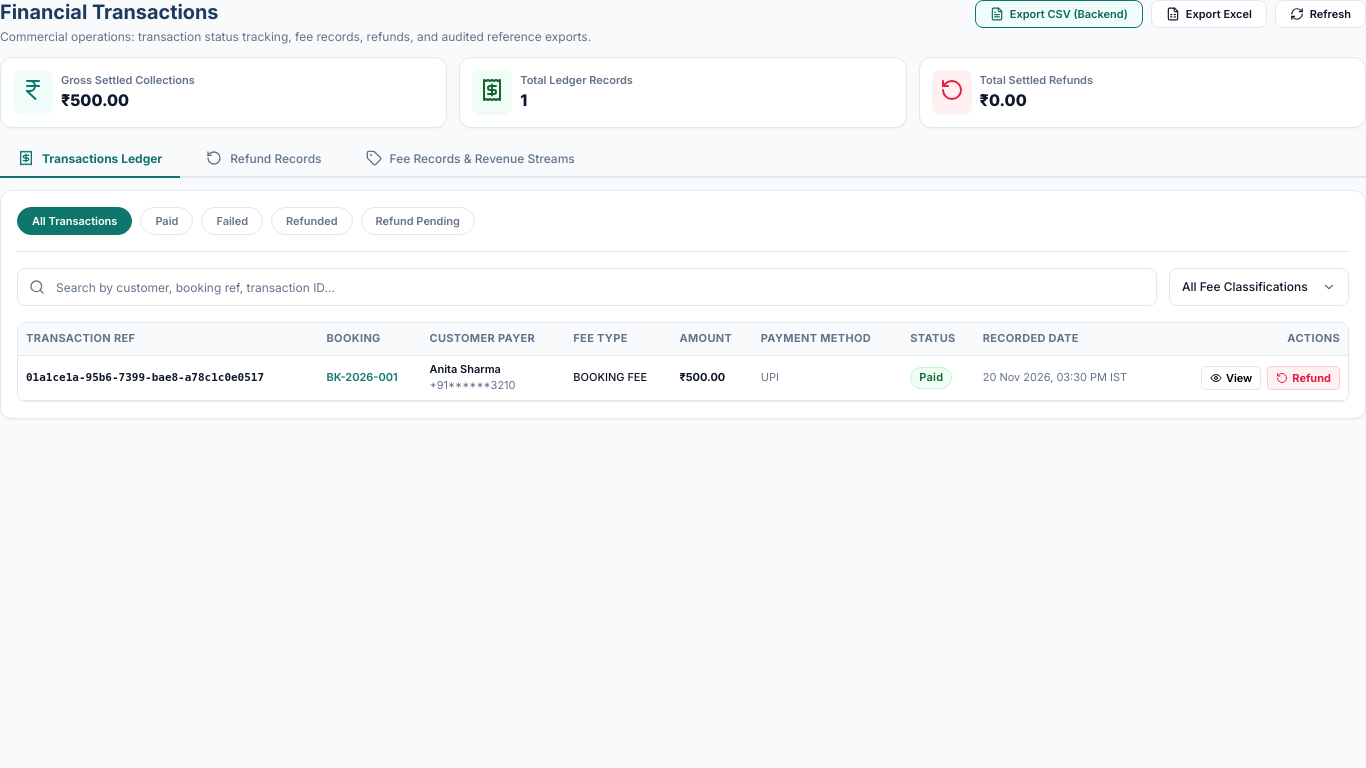
Test: Super Admin Refund Handling — Backend Contract & Resilience › 2. UI Workflow — Super Admin Refund Initiation & Feedback › prevents duplicate refund submissions while a request is in flight
The width and height of the screenshot is (1366, 768).
Click the button "Refund".
click(1304, 378)  # box [1267,366,1340,390]
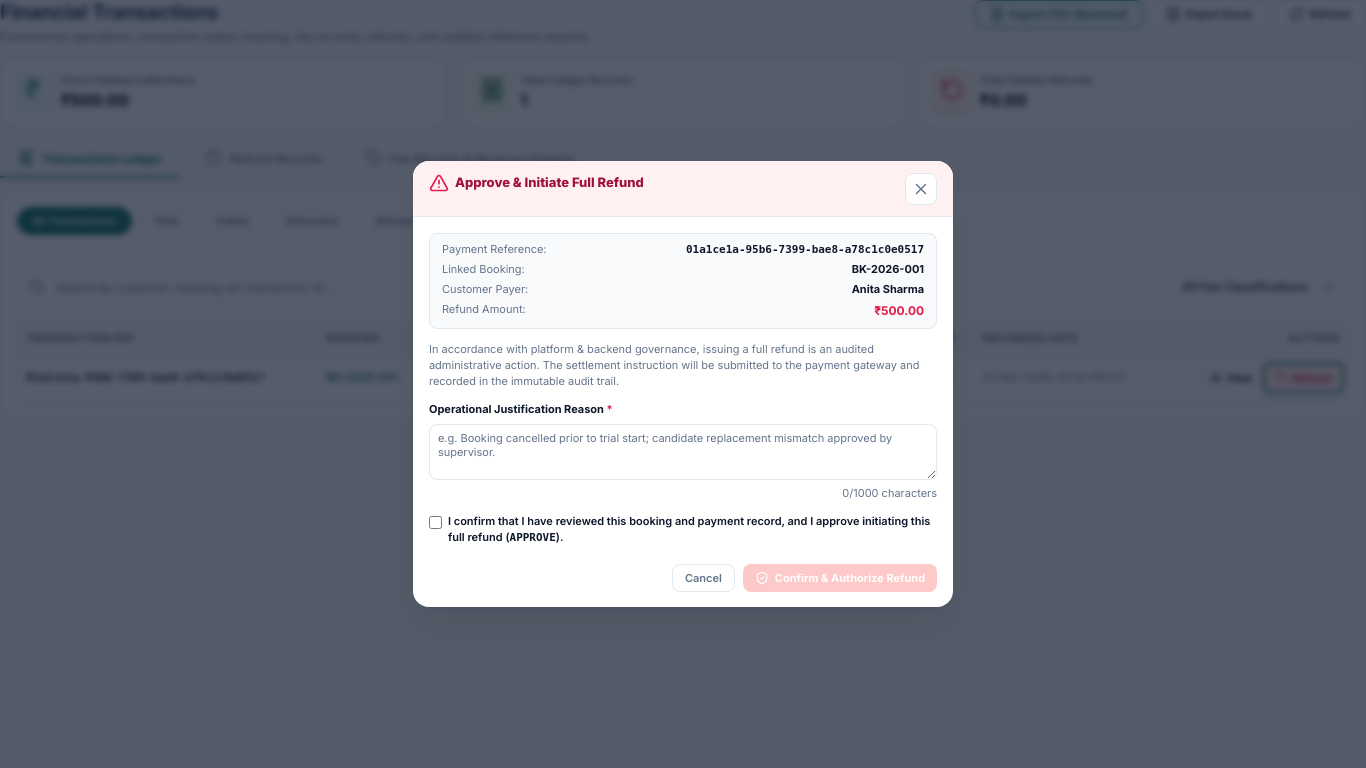
Type "Testing duplicate submission prevention guard" into the text box labelled "Operational Justification Reason *".
click(683, 452); type("Testing duplicate submission prevention guard")  # box [429,424,937,480]
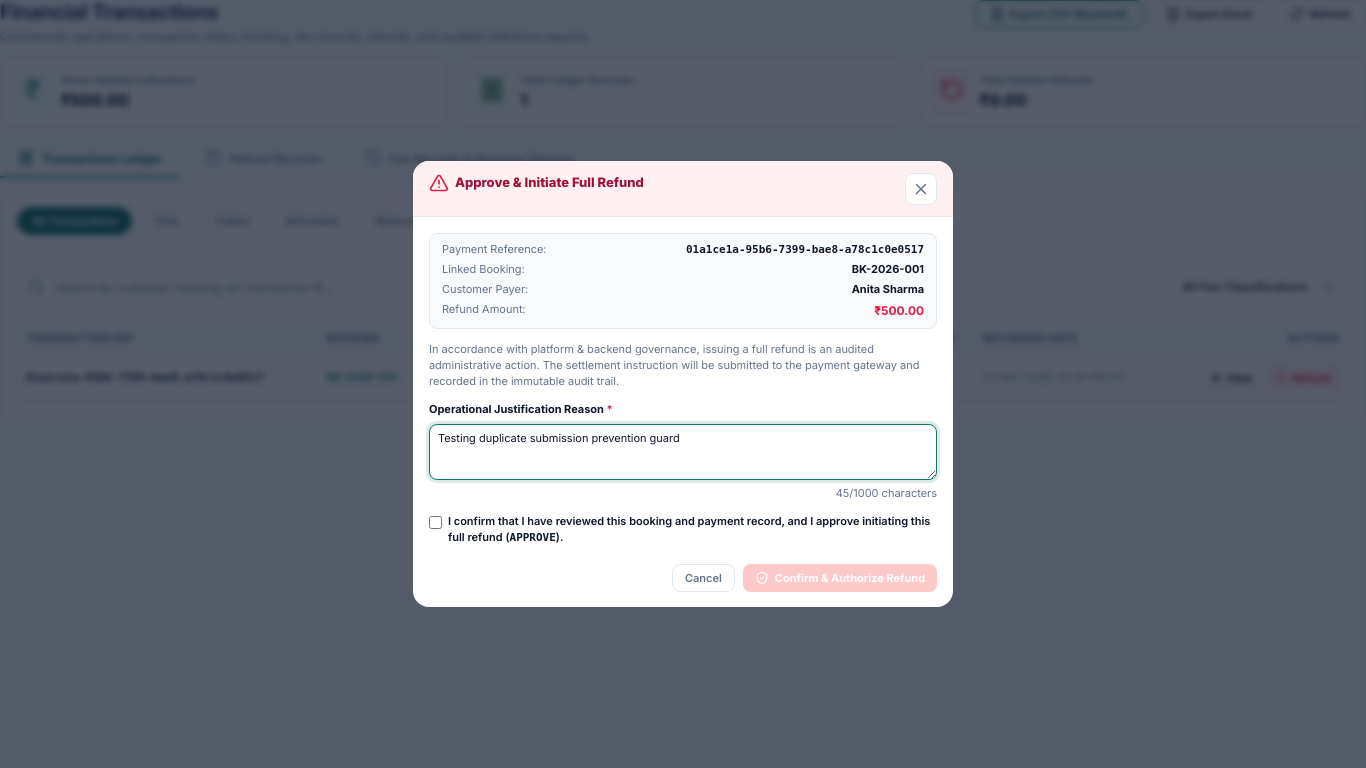
Click the checkbox.
click(436, 522)  # box [429,516,442,529]
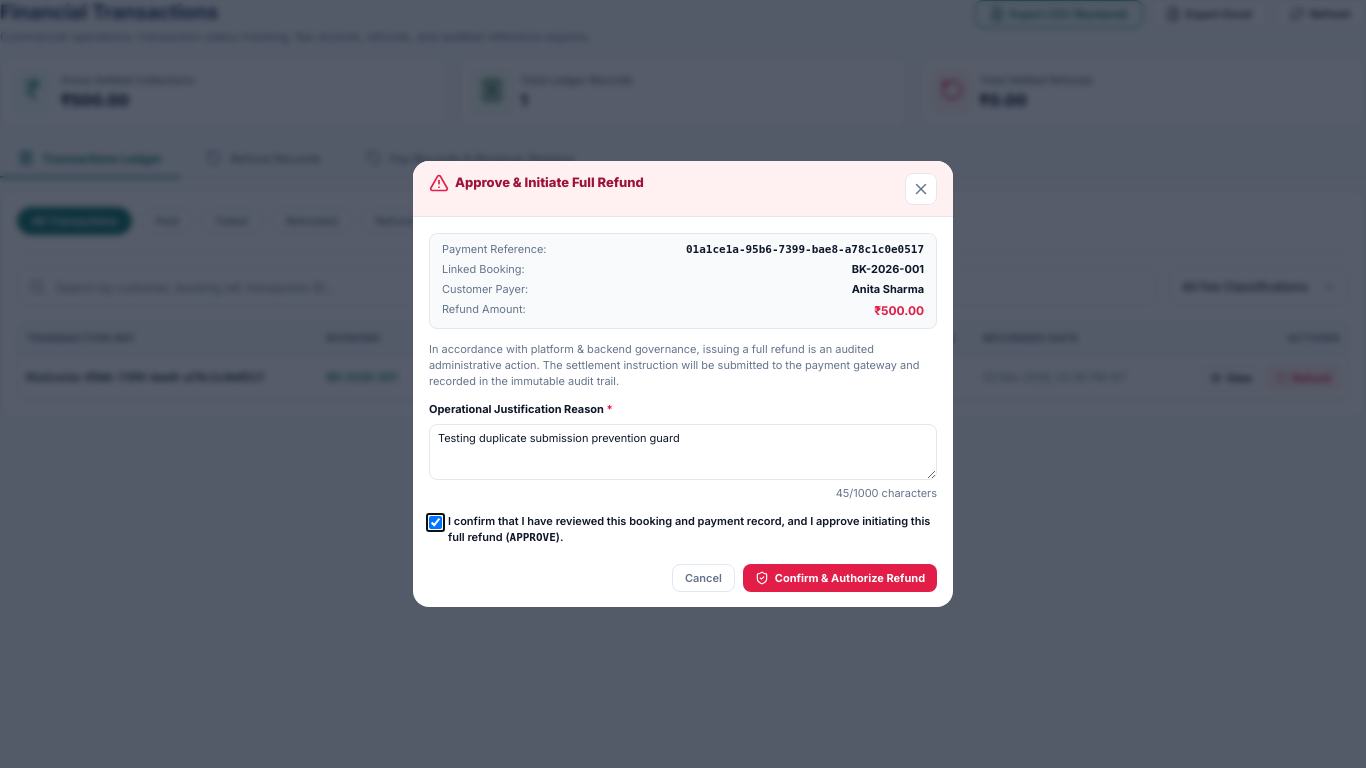
Click the button "Confirm & Authorize Refund".
click(840, 578)  # box [743,564,937,592]
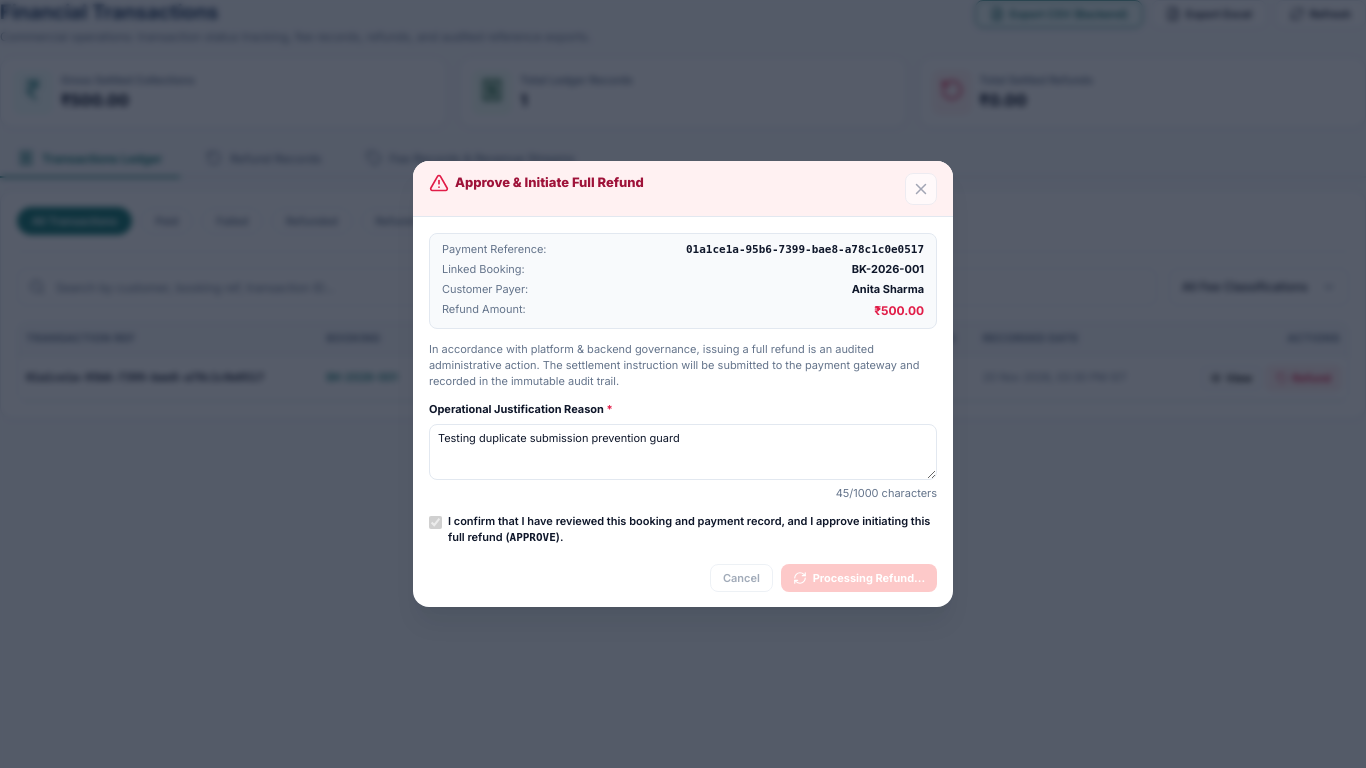
Expected: the button named "Confirm & Authorize Refund" is disabled
Expected: the text "Processing Refund..." is shown, [813,570,925,584]
# Attempting to click again while in-flight does not invoke processRefund a second time
Click the button named "Confirm & Authorize Refund".
click(859, 578)  # box [781,564,937,592]
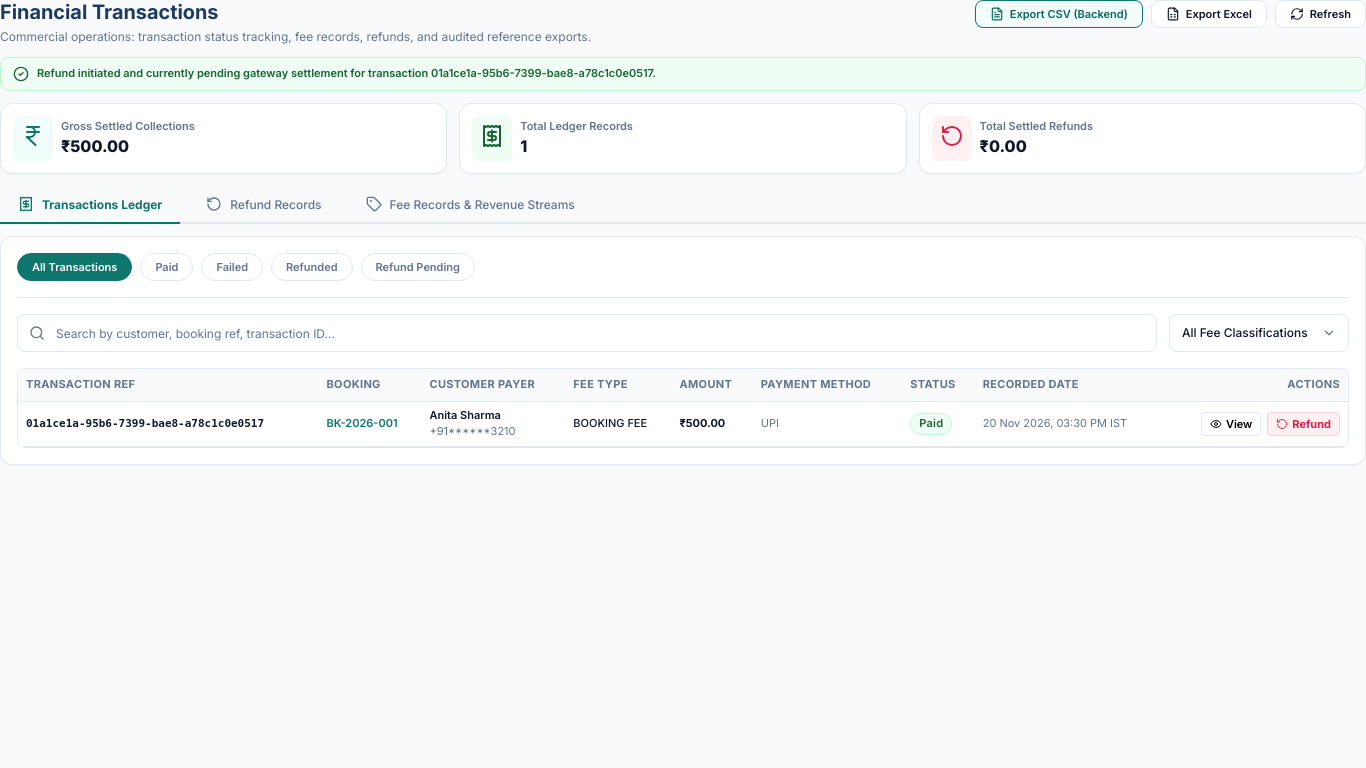
Expected: the heading "Approve & Initiate Full Refund" is gone
